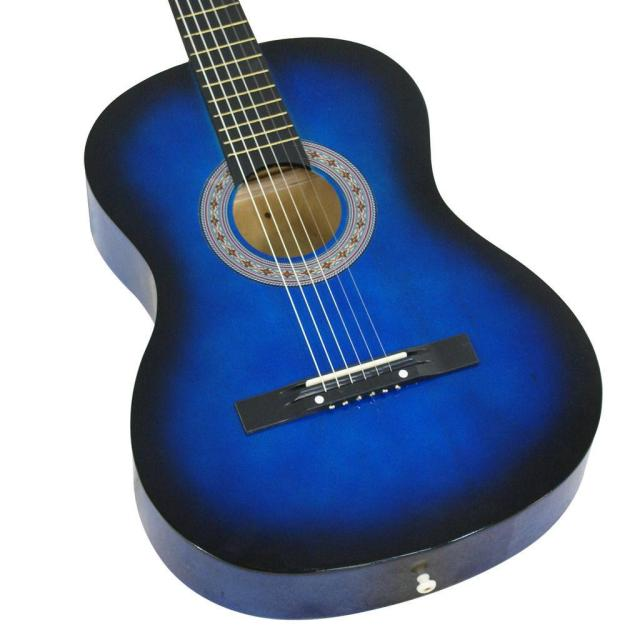guitar: (85, 0, 601, 618)
